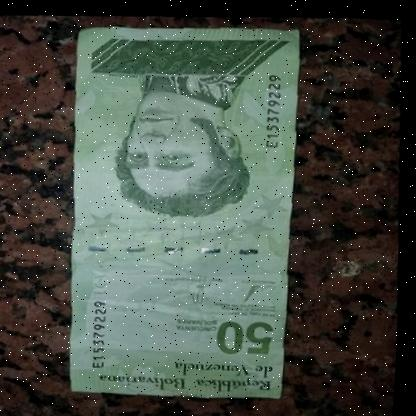fifty-front-vef: (60, 17, 305, 399)
